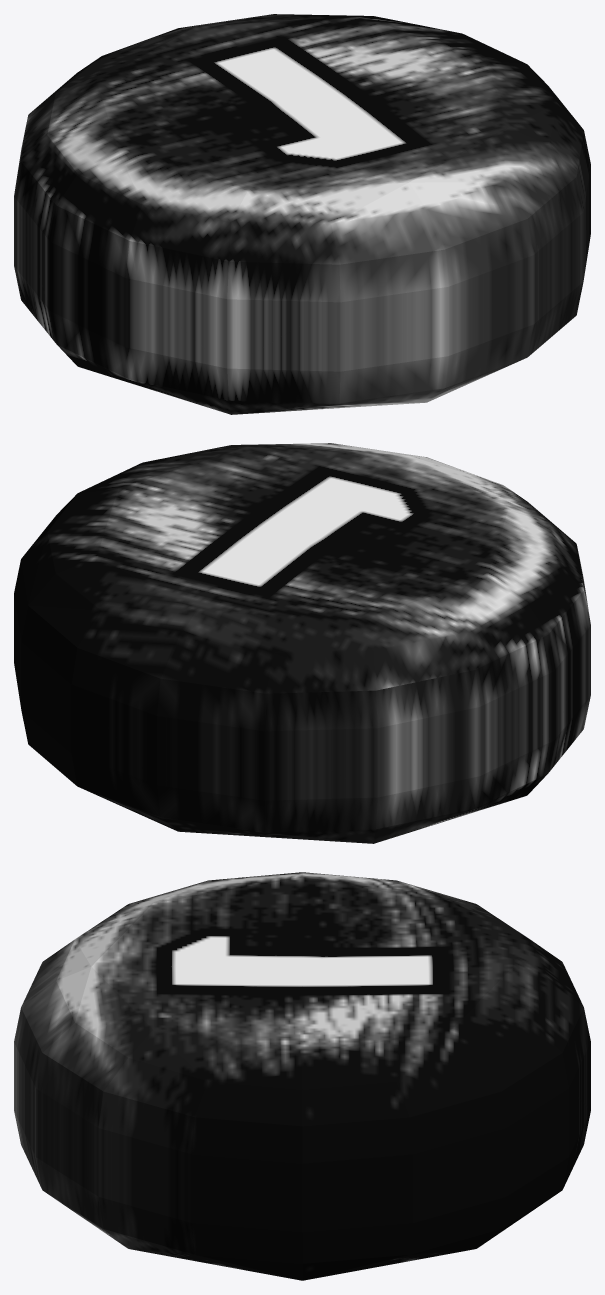
File: white3.dae
The picture shows the model from 3 angles, top to bottom: view 1: azimuth 30°, elevation 25°; view 2: azimuth 150°, elevation 25°; view 3: azimuth 270°, elevation 25°; orthographic projection.
Parts seen in each view (by area): view 1: m0; view 2: m0; view 3: m0.
Boxes of the visible parts, bbox=[...] form: m0: bbox=[14, 14, 590, 414]; m0: bbox=[14, 443, 590, 843]; m0: bbox=[14, 872, 590, 1280].
Bounding box in the file's own units: 71.03 × 27.9 × 71.03.
1 material, 1 textured.
